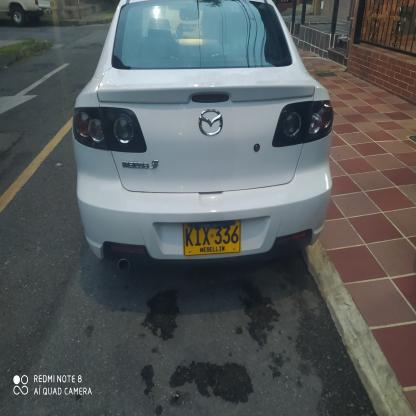placa: (178, 216, 245, 260)
